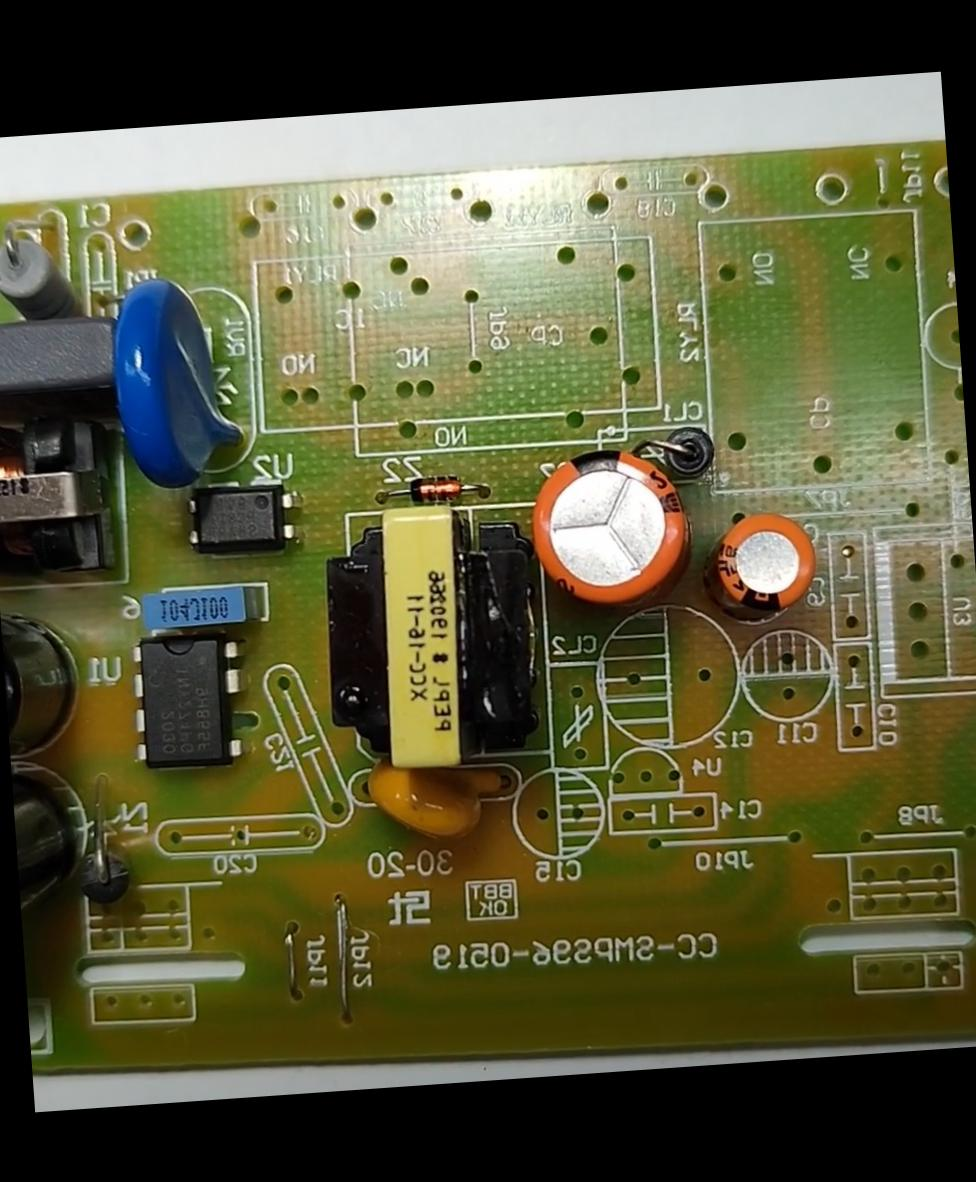Cap1: (524, 442, 700, 608)
Cap2: (712, 506, 820, 613)
Cap3: (0, 602, 88, 772)
Cap4: (11, 765, 90, 955)
MOSFET: (126, 629, 251, 769)
Mov: (107, 269, 244, 492)
Resistor: (0, 229, 88, 321)
Transformer: (314, 494, 548, 776), (0, 405, 123, 585)
